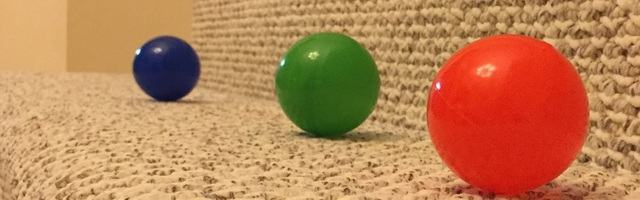Ball: (272, 34, 381, 137)
